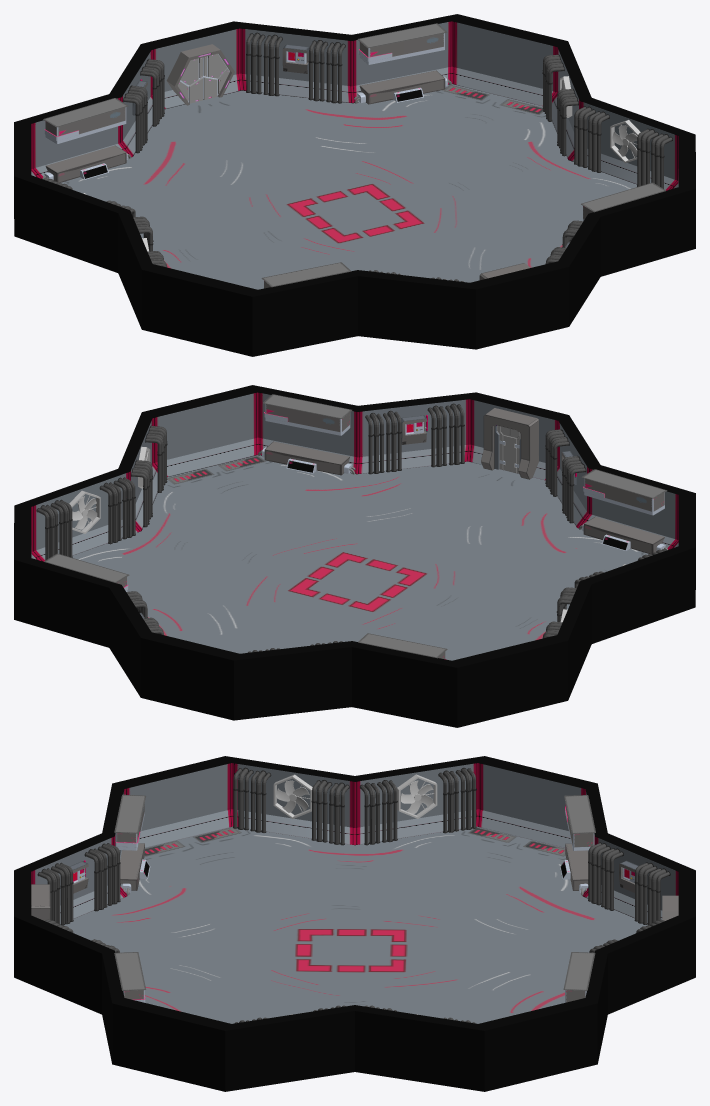
Rendered from SM_BossRoom.fbx.
3 renders of one model, top to bottom at view 1: azimuth 30°, elevation 25°; view 2: azimuth 150°, elevation 25°; view 3: azimuth 270°, elevation 25°, orthographic.
Visible parts, largest first — view 1: bossFloor, bossDarkCover, bossWalls, InvernaederoT2, InvernaederoT2.002, SM_MainDoor_01a, InvernaederoT2.003, InvernaederoT2.001, WallLitleMachine.003, prop_tube_straight.013, prop_tube_straight.014, prop_tube_straight.015 (+2 smaller); view 2: bossFloor, bossDarkCover, bossWalls, InvernaederoT2.003, InvernaederoT2.001, SM_SecondaryDoor_01a, InvernaederoT2, InvernaederoT2.002, WallLitleMachine, prop_tube_straight.003, prop_tube_straight, prop_tube_straight.001 (+3 smaller); view 3: bossFloor, bossDarkCover, bossWalls, InvernaederoT2.001, InvernaederoT2.002, InvernaederoT2.003, InvernaederoT2, SM_SecondaryDoor_01a, pCube10.002, prop_tube_straight.027, prop_tube_straight.030, pCube10.003 (+9 smaller).
Boxes of the visible parts, x1=… form: bossFloor: x1=58, y1=84, x2=636, y2=289; bossDarkCover: x1=14, y1=14, x2=695, y2=356; bossWalls: x1=31, y1=21, x2=678, y2=190; InvernaederoT2: x1=354, y1=23, x2=451, y2=104; InvernaederoT2.002: x1=42, y1=98, x2=131, y2=183; SM_MainDoor_01a: x1=166, y1=44, x2=234, y2=105; InvernaederoT2.003: x1=581, y1=182, x2=665, y2=221; InvernaederoT2.001: x1=261, y1=262, x2=351, y2=288; WallLitleMachine.003: x1=282, y1=44, x2=309, y2=73; prop_tube_straight.013: x1=246, y1=54, x2=261, y2=94; prop_tube_straight.014: x1=308, y1=62, x2=324, y2=101; prop_tube_straight.015: x1=326, y1=64, x2=342, y2=103; bossFloor: x1=72, y1=455, x2=648, y2=660; bossDarkCover: x1=14, y1=385, x2=695, y2=727; bossWalls: x1=31, y1=392, x2=678, y2=561; InvernaederoT2.003: x1=258, y1=394, x2=355, y2=475; InvernaederoT2.001: x1=579, y1=469, x2=667, y2=554; SM_SecondaryDoor_01a: x1=481, y1=408, x2=538, y2=479; InvernaederoT2: x1=44, y1=553, x2=129, y2=591; InvernaederoT2.002: x1=358, y1=633, x2=447, y2=659; WallLitleMachine: x1=401, y1=415, x2=427, y2=444; prop_tube_straight.003: x1=386, y1=432, x2=401, y2=472; prop_tube_straight: x1=449, y1=425, x2=464, y2=465; prop_tube_straight.001: x1=431, y1=428, x2=446, y2=467; bossFloor: x1=60, y1=826, x2=647, y2=1023; bossDarkCover: x1=14, y1=756, x2=695, y2=1091; bossWalls: x1=31, y1=763, x2=678, y2=924; InvernaederoT2.001: x1=114, y1=794, x2=150, y2=895; InvernaederoT2.002: x1=560, y1=795, x2=595, y2=895; InvernaederoT2.003: x1=114, y1=952, x2=145, y2=1002; InvernaederoT2: x1=563, y1=952, x2=595, y2=1002; SM_SecondaryDoor_01a: x1=31, y1=884, x2=50, y2=920; pCube10.002: x1=276, y1=780, x2=309, y2=812; prop_tube_straight.027: x1=329, y1=804, x2=344, y2=845; prop_tube_straight.030: x1=364, y1=804, x2=380, y2=845; pCube10.003: x1=400, y1=780, x2=433, y2=813.
Bounding box in the file's own units: 102 × 10.67 × 107.
